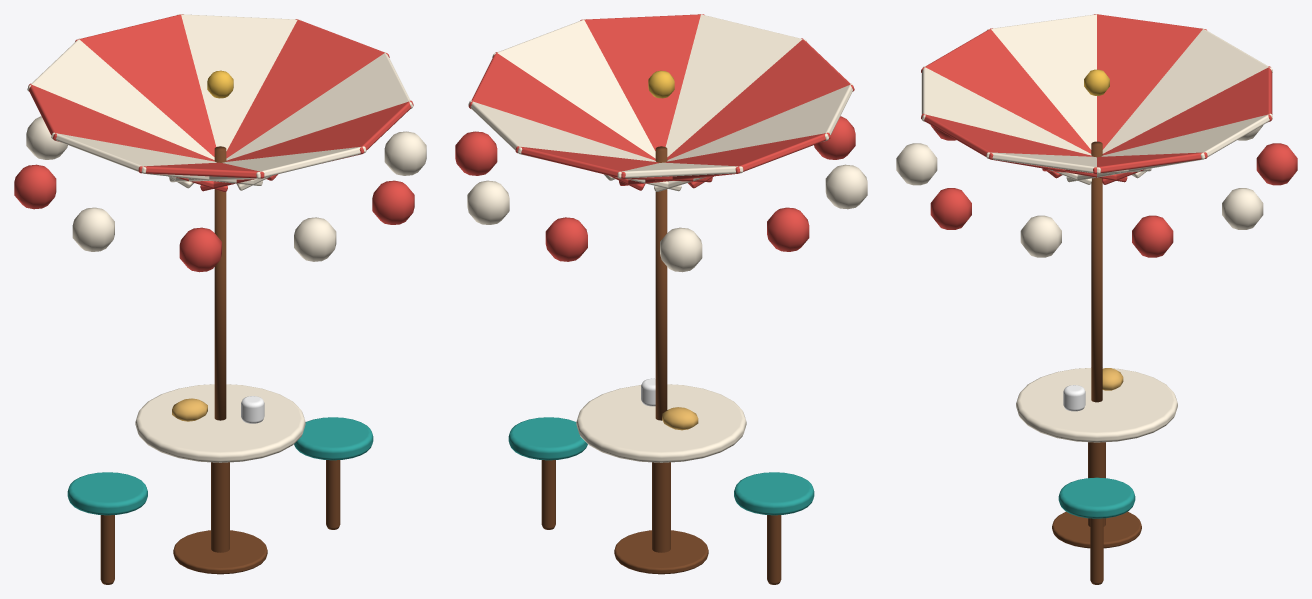
File: bistro_table.glb
3 views of the same model, side by side, from view 1: azimuth 30°, elevation 25°; view 2: azimuth 150°, elevation 25°; view 3: azimuth 270°, elevation 25° (orthographic). The views are drawn at different scales.
Parts seen in each view (by area): view 1: bistro_table; view 2: bistro_table; view 3: bistro_table.
Boxes of the visible parts, x1=… form: bistro_table: x1=14, y1=14, x2=426, y2=584; bistro_table: x1=455, y1=14, x2=867, y2=584; bistro_table: x1=896, y1=14, x2=1297, y2=584.
Bounding box in the file's own units: 1.7 × 2.26 × 1.78.
